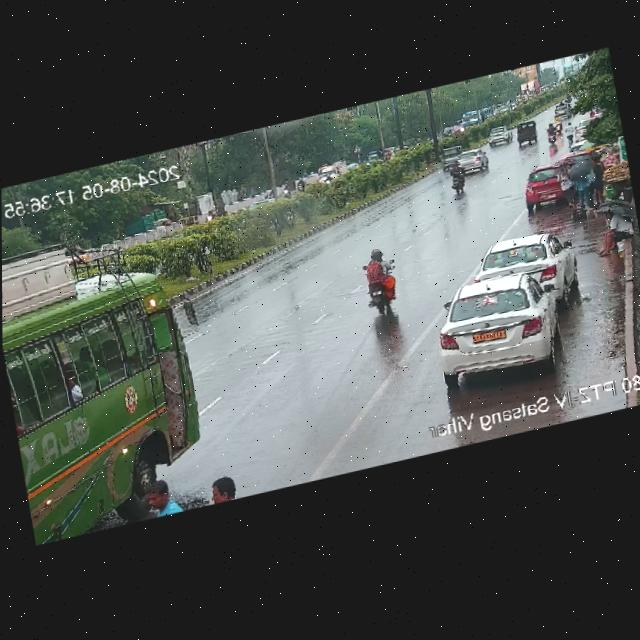bus: (2, 216, 206, 502)
car: (427, 259, 580, 389), (472, 226, 576, 307), (521, 162, 569, 209), (316, 156, 352, 194), (448, 148, 490, 178), (511, 119, 541, 150), (438, 143, 462, 171), (484, 124, 512, 147)
motorcycle: (354, 241, 405, 319), (437, 161, 474, 197), (280, 176, 300, 204), (203, 204, 220, 227)
person: (136, 473, 191, 521), (565, 151, 607, 212), (592, 206, 638, 256), (201, 475, 243, 507)
